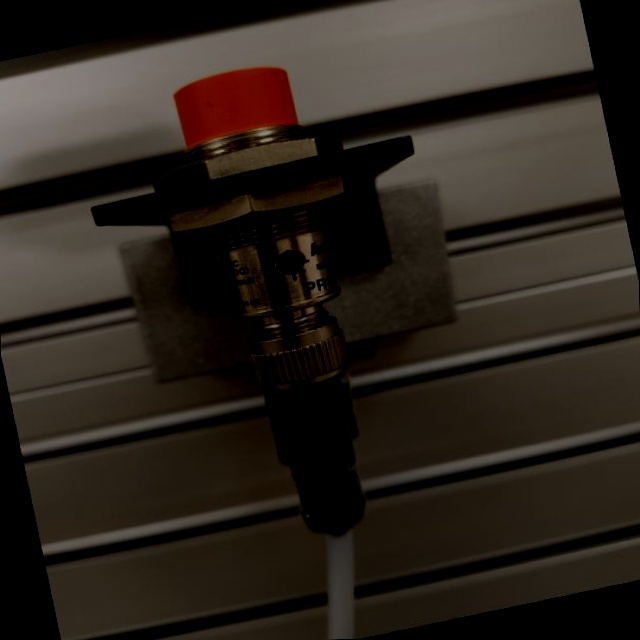inductive sensor: (61, 21, 521, 580)
